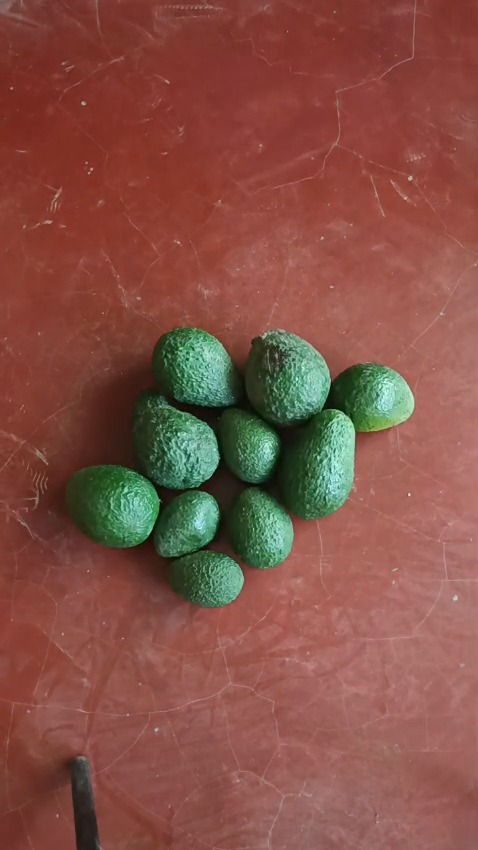Primera: (130, 392, 220, 489), (276, 410, 355, 519), (243, 329, 330, 426), (64, 464, 160, 548), (151, 326, 240, 408)
Segunda: (329, 363, 415, 433), (216, 407, 280, 483)
Tercera: (225, 487, 293, 568), (153, 490, 222, 559), (167, 550, 243, 606)
